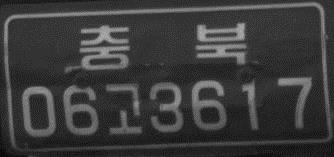0: (20, 82, 58, 140)
1: (238, 77, 264, 131)
3: (147, 79, 184, 136)
6: (188, 77, 228, 133), (61, 82, 101, 137)
7: (274, 74, 317, 133)
고: (102, 79, 146, 137)
충북_D: (77, 19, 250, 74)
